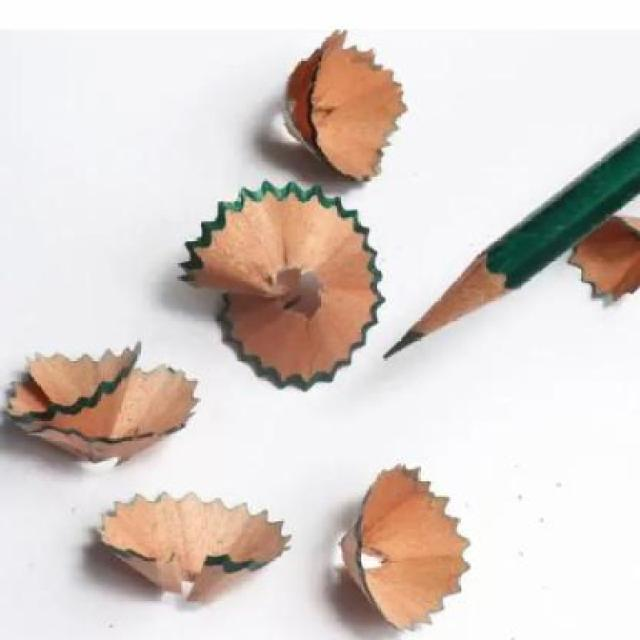pencil: (373, 124, 640, 368)
